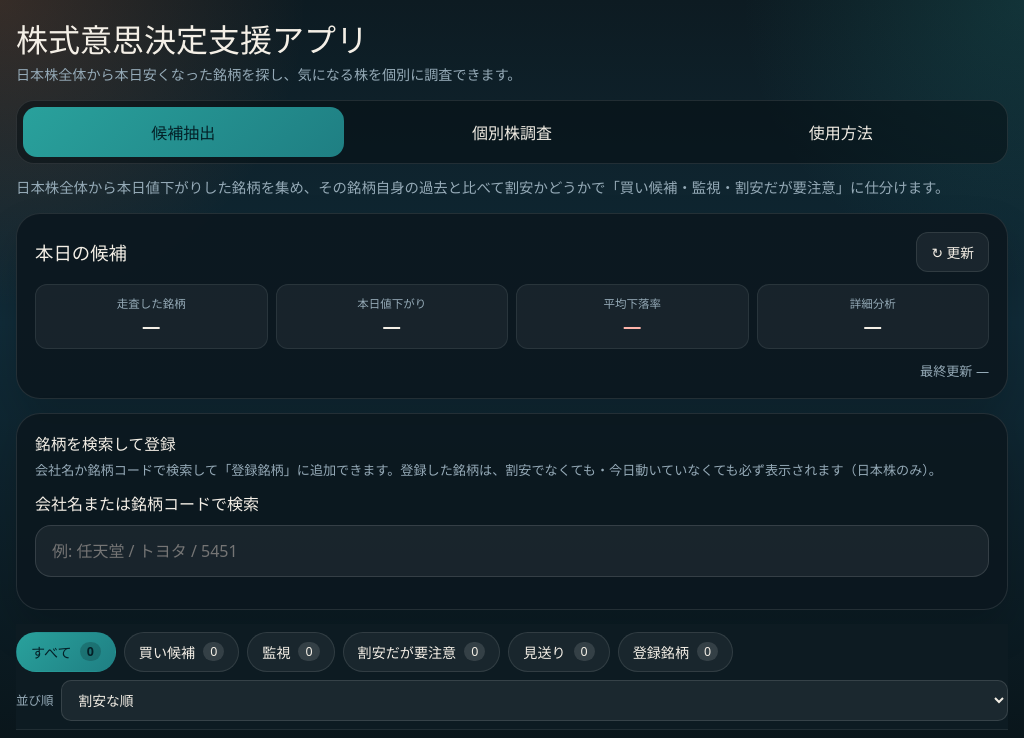
Test: App › 開始レスポンスに completed result が含まれる場合はポーリングせず即時反映する
What coordinates should you click on to do the following:
click the tab "個別株調査"
I would click on:
 (512, 132)
Its box is [352,107,672,157].
(page scrolled)
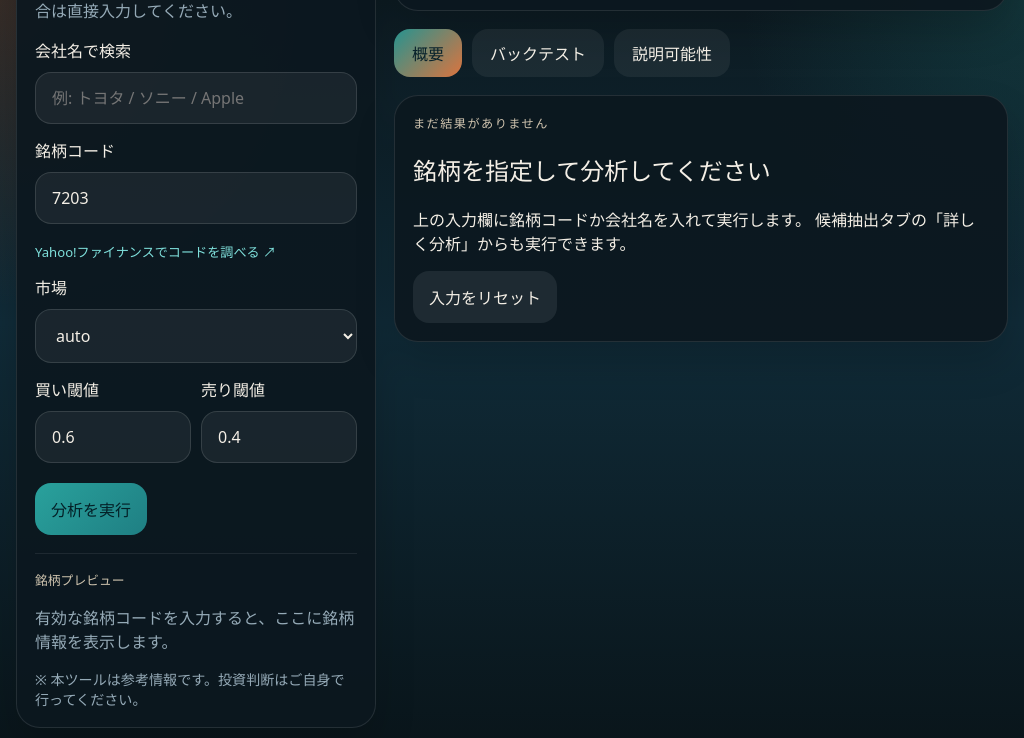
What coordinates should you click on to do the following:
click the button "分析を実行"
I would click on:
 (91, 509)
Its box is [35,483,147,535].
(page scrolled)
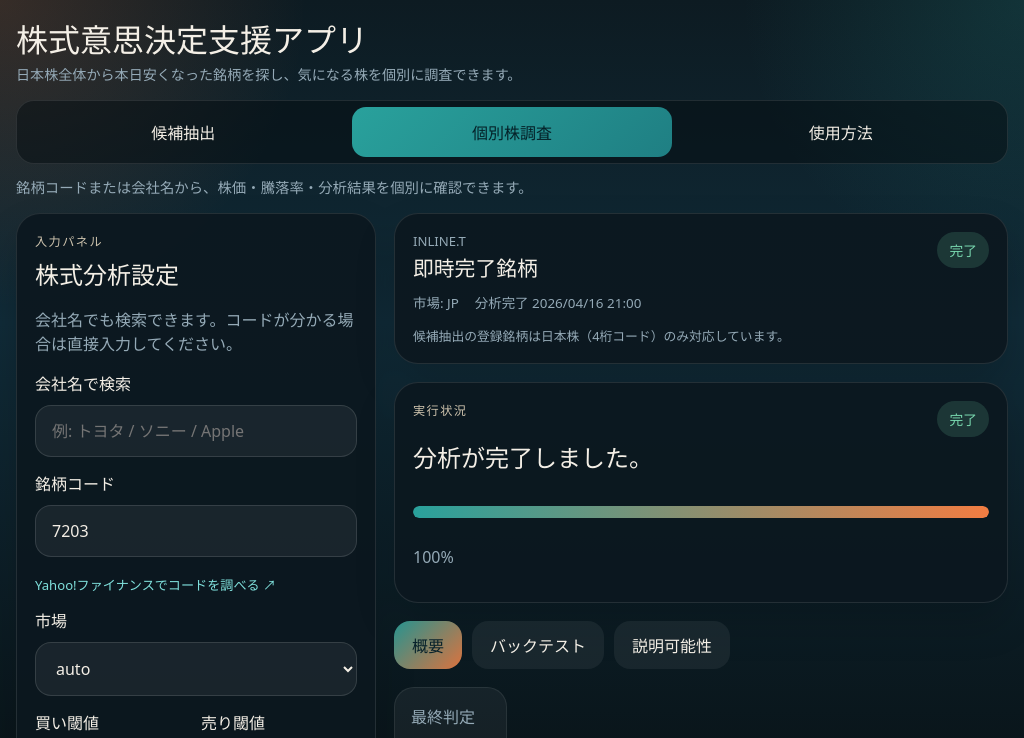
Now the heading "即時完了銘柄" is shown, box [413,252,538,282]
